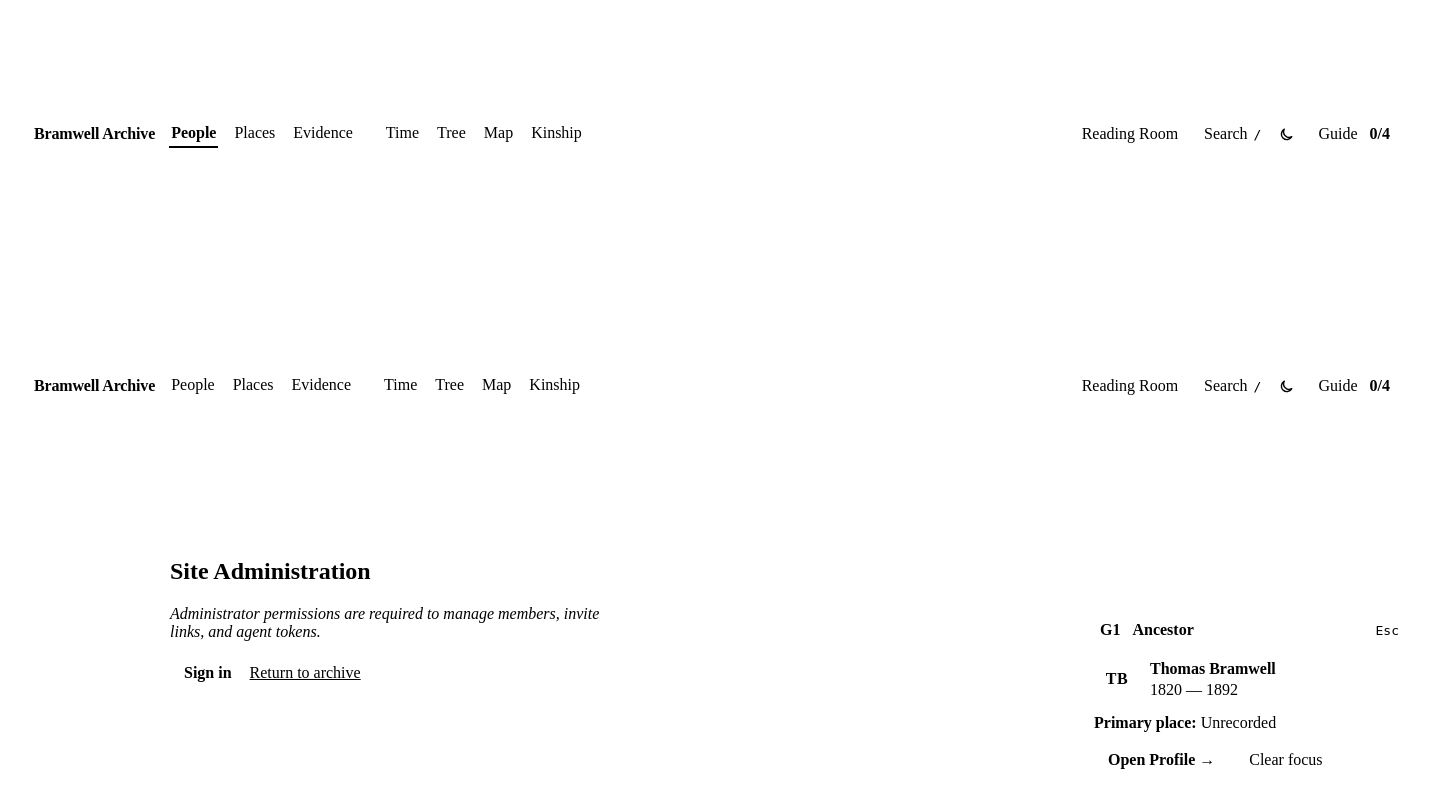
Scenario: Issue #67: A11y hardening, keycaps, pedigree roll focus, and sticky footer shell › renders real kbd keycaps in ExplorerTopBar and TreeFocusDrawer and polishes AdminPage/RecentChangesPage/NotFoundPage shells
The image size is (1440, 810).
Click the button "Sign in": (208, 673) [170,657,246,689]
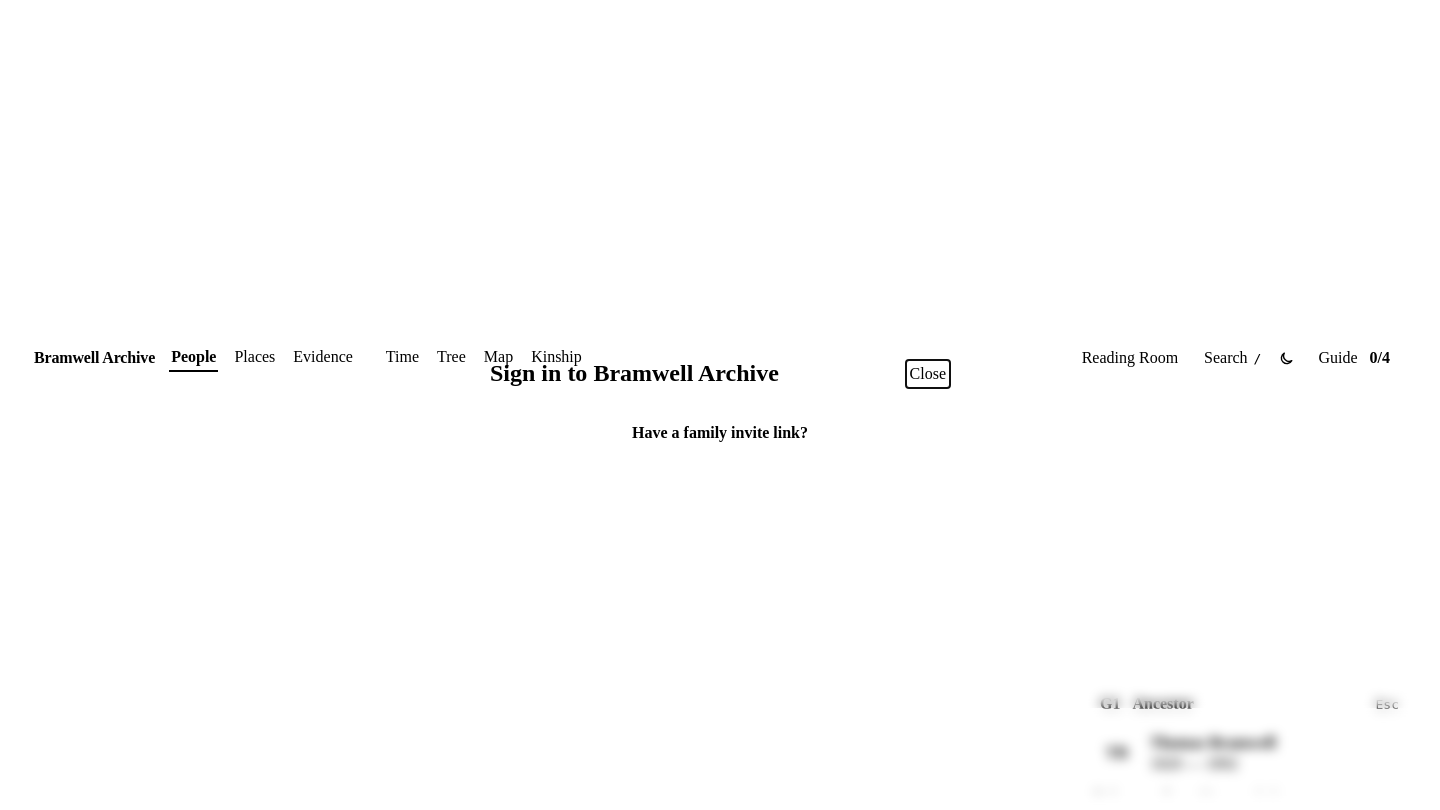
Result: the dialog is shown
